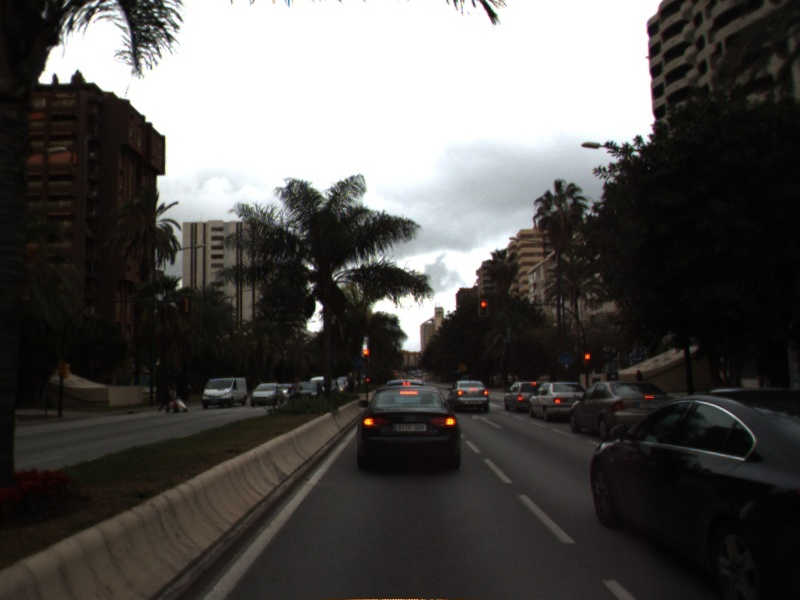STRAIGHT: (469, 412, 504, 431)
